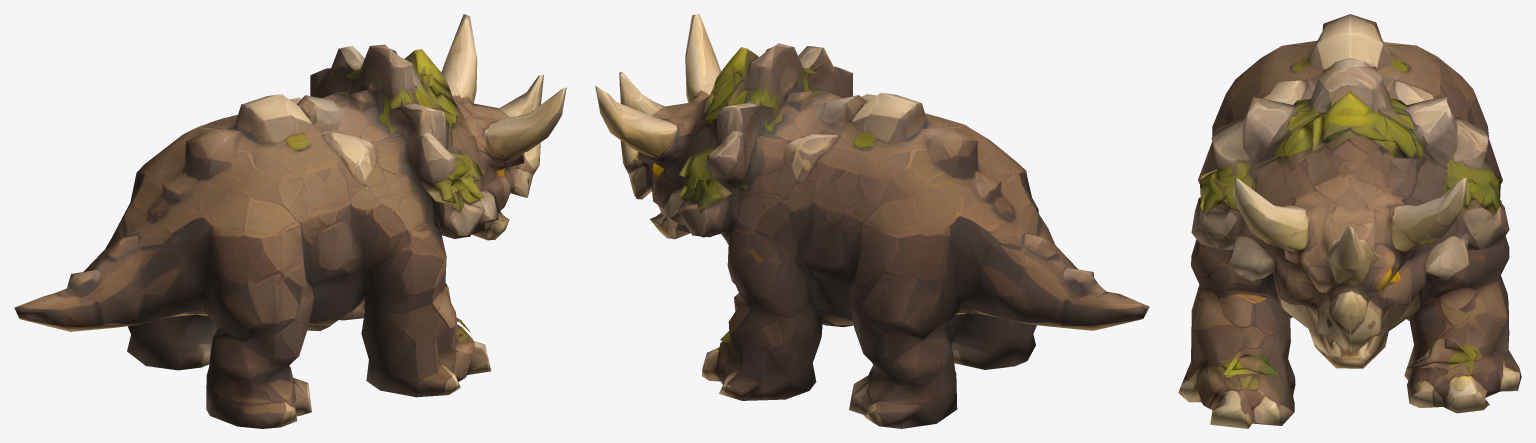
The model's file is rhino.glb.
3 views of the same model, side by side, from view 1: azimuth 30°, elevation 25°; view 2: azimuth 150°, elevation 25°; view 3: azimuth 270°, elevation 25° (orthographic). The views are drawn at different scales.
Visible parts, largest first — view 1: tripo_node_f05c588a-b468-4943-98b2-04fa629ff03d; view 2: tripo_node_f05c588a-b468-4943-98b2-04fa629ff03d; view 3: tripo_node_f05c588a-b468-4943-98b2-04fa629ff03d.
Part boxes in pixels (x1,y1,x2,y2): tripo_node_f05c588a-b468-4943-98b2-04fa629ff03d: (14,14,566,428); tripo_node_f05c588a-b468-4943-98b2-04fa629ff03d: (595,14,1149,428); tripo_node_f05c588a-b468-4943-98b2-04fa629ff03d: (1178,14,1521,428).
Size of the model in its own units: 1.01 by 0.5309 by 0.4908.
Materials: 1 (1 with a texture image).
